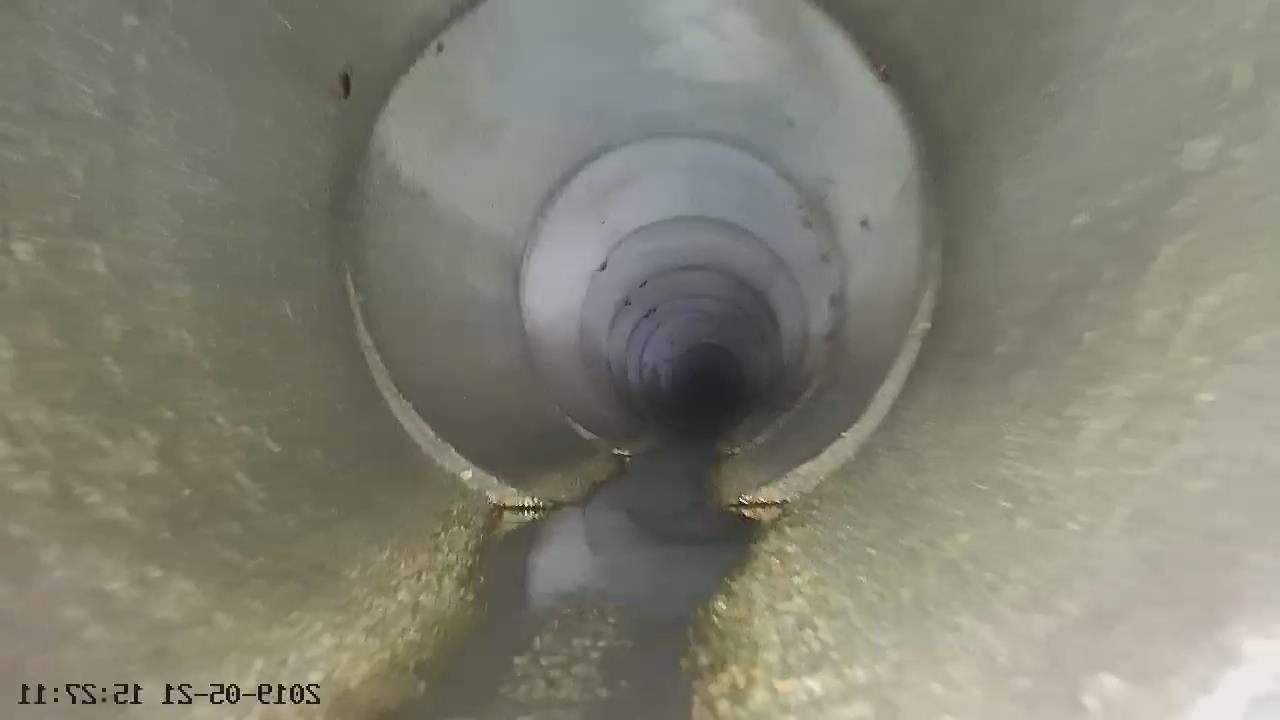CKTJ: (733, 261, 939, 506), (345, 272, 543, 510)
